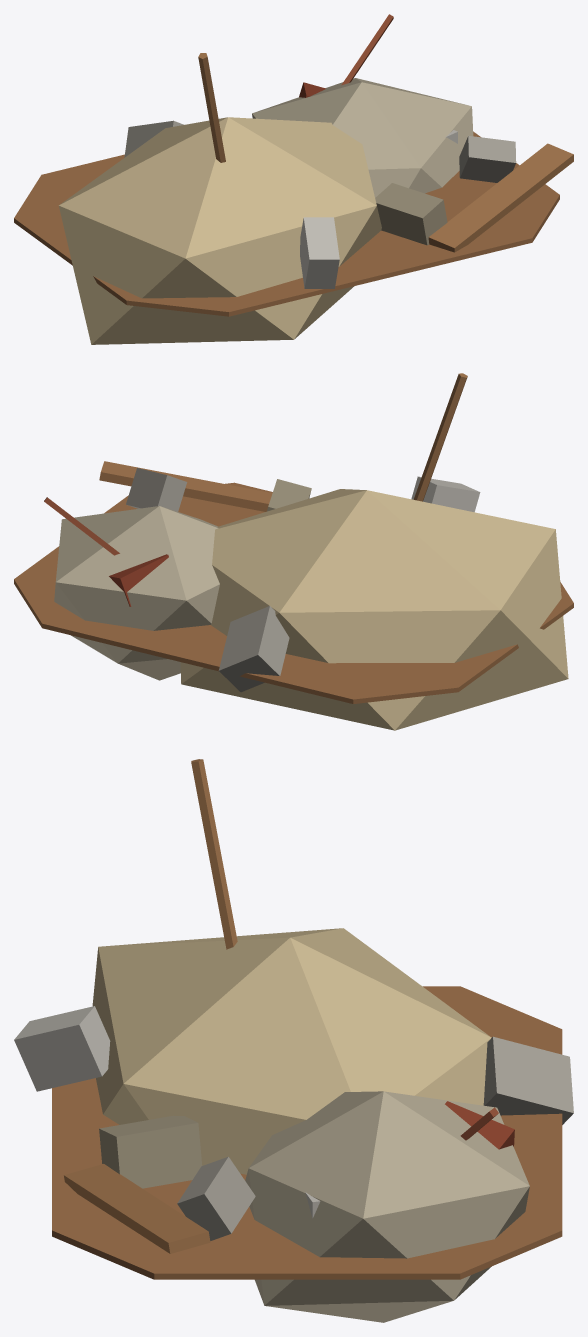
Rendered from dust_pile.glb.
3 views of the same model, one above another, from view 1: azimuth 30°, elevation 25°; view 2: azimuth 150°, elevation 25°; view 3: azimuth 270°, elevation 25° (orthographic). The views are drawn at different scales.
Parts seen in each view (by area): view 1: dust_pile; view 2: dust_pile; view 3: dust_pile.
Boxes of the visible parts, x1=… form: dust_pile: x1=14, y1=14, x2=573, y2=344; dust_pile: x1=14, y1=373, x2=573, y2=730; dust_pile: x1=14, y1=759, x2=573, y2=1322.
Bounding box in the file's own units: 4.32 × 2.87 × 3.29.
